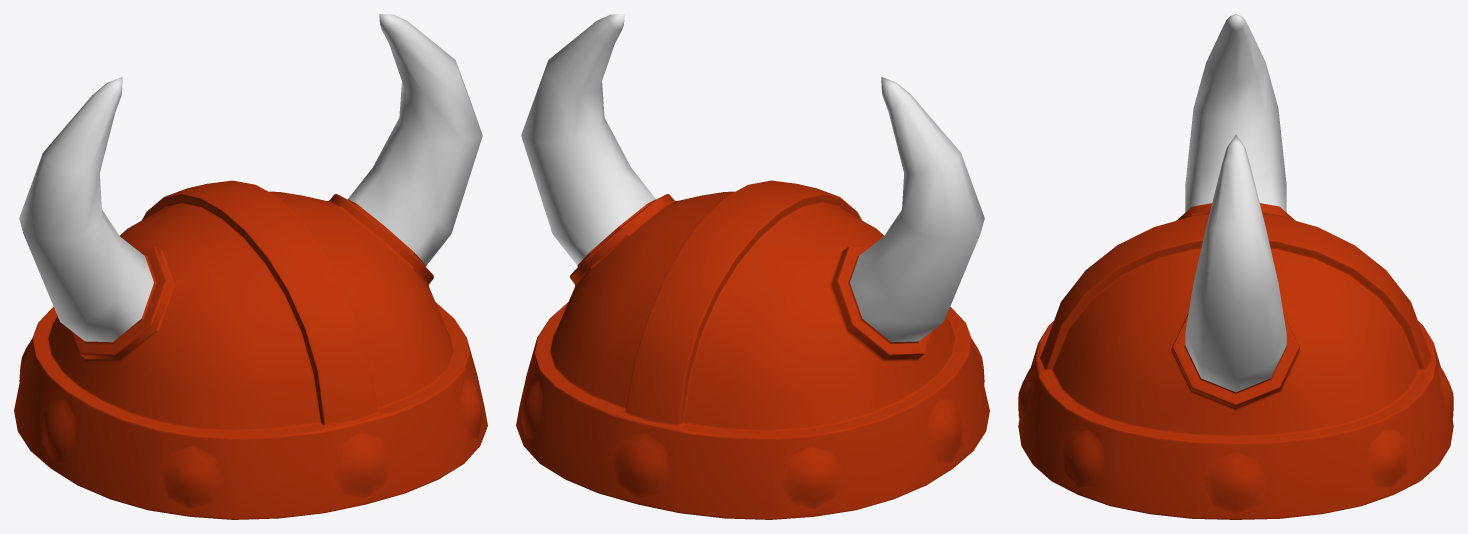
File: VikingKaciga.fbx
3 renders of one model, left to right at view 1: azimuth 30°, elevation 25°; view 2: azimuth 150°, elevation 25°; view 3: azimuth 270°, elevation 25°, orthographic. The views are drawn at different scales.
Visible parts, largest first — view 1: Viking_Helmet_04, Viking_Helmet_04.001; view 2: Viking_Helmet_04, Viking_Helmet_04.001; view 3: Viking_Helmet_04, Viking_Helmet_04.001.
Boxes of the visible parts, <box> form: Viking_Helmet_04: <box>14,180,487,519</box>; Viking_Helmet_04.001: <box>19,14,482,342</box>; Viking_Helmet_04: <box>516,180,989,519</box>; Viking_Helmet_04.001: <box>521,14,984,342</box>; Viking_Helmet_04: <box>1018,203,1453,519</box>; Viking_Helmet_04.001: <box>1185,14,1286,392</box>.
Size of the model in its own units: 54.93 by 43.31 by 48.4.
